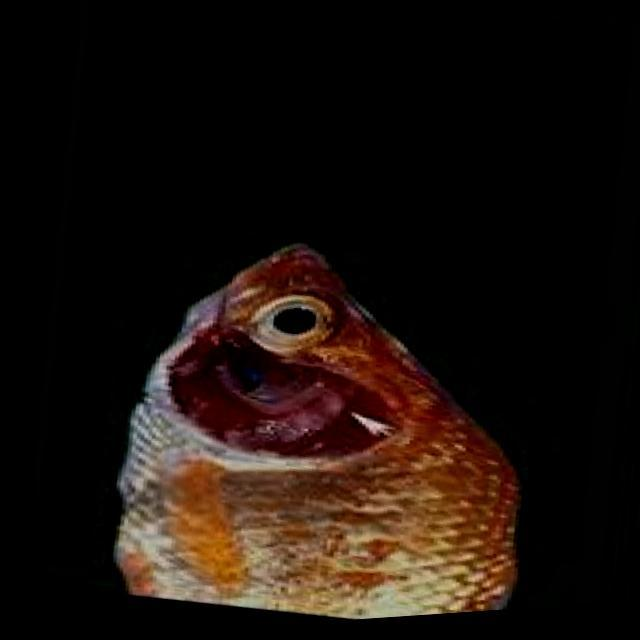Gill Disease: (119, 242, 523, 617)
